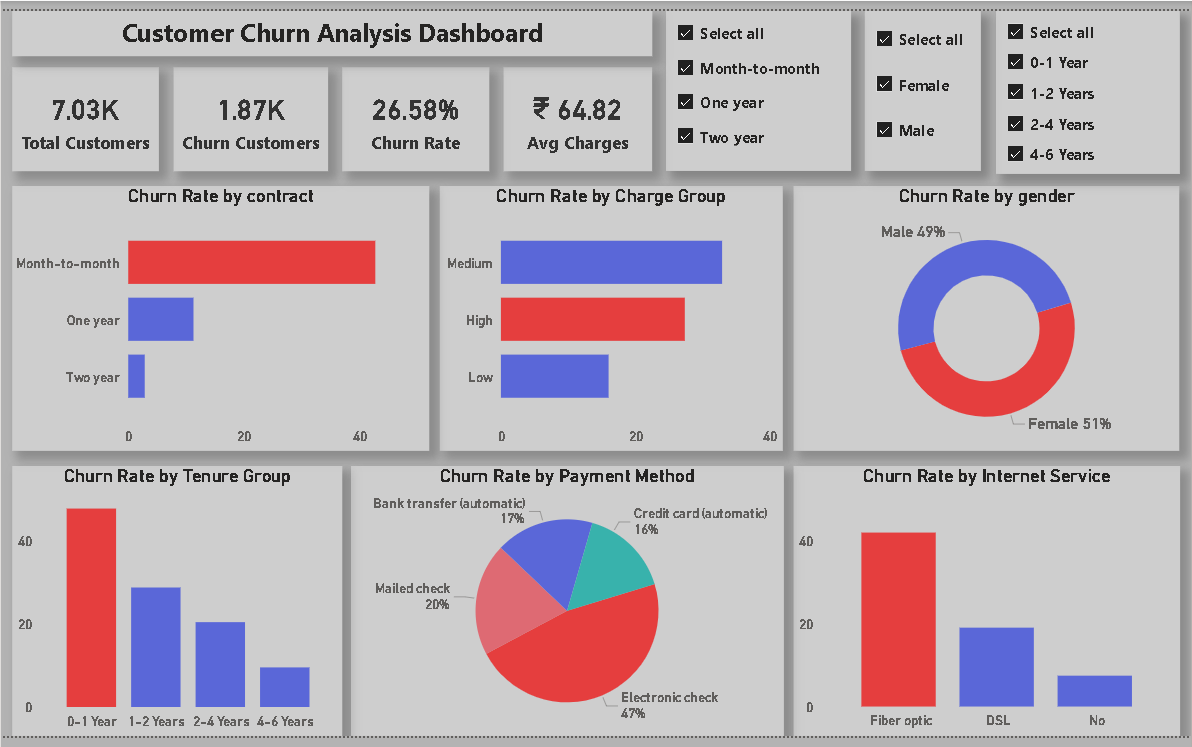

The dashboard page shown, as its layout file describes it:
{"tool":"powerbi","page":{"name":"Page 1","canvas":[1280,780],"ordinal":0},"visuals":[{"type":"card","fields":{"Values":["churn.total_customers"]},"box":[12.1,60.5,157.3,111.6],"z":0},{"type":"card","fields":{"Values":["churn.churn_customers"]},"box":[185.6,60.5,166.8,111.6],"z":1000},{"type":"card","fields":{"Values":["churn.Churn_Rate"]},"box":[367.1,60.5,158.7,111.6],"z":2000},{"type":"card","fields":{"Values":["churn.Avg Charges"]},"box":[540.6,60.5,160,111.6],"z":3000},{"type":"barChart","title":"Churn Rate by contract","fields":{"Category":["churn.contract"],"Y":["churn.Churn %"]},"box":[12.1,188.3,449.2,285.1],"z":4000},{"type":"columnChart","title":"Churn Rate by Tenure Group","fields":{"Category":["churn.tenure_group"],"Y":["churn.Churn %"]},"box":[12.1,489.5,355,290.5],"z":5000},{"type":"barChart","title":"Churn Rate by Charge Group","fields":{"Y":["churn.Churn %"],"Category":["churn.charge_group"]},"box":[472,188.3,368.5,285.1],"z":6000},{"type":"pieChart","title":"Churn Rate by Payment Method","fields":{"Category":["churn.payment_method"],"Y":["churn.Churn %"]},"box":[376.6,489.5,465.3,290.5],"z":7000},{"type":"donutChart","title":"Churn Rate by gender","fields":{"Category":["churn.gender"],"Y":["churn.Churn %"]},"box":[852.6,188.3,415.6,285.1],"z":8000},{"type":"textbox","box":[12.1,0,688.6,48.4],"z":9000},{"type":"columnChart","title":"Churn Rate by Internet Service","fields":{"Category":["churn.internet_service"],"Y":["churn.Churn %"]},"box":[853,490,416,290],"z":10000},{"type":"slicer","fields":{"Values":["churn.contract"]},"box":[715.4,0,199,172.1],"z":11000},{"type":"slicer","fields":{"Values":["churn.gender"]},"box":[929.3,0,125.1,172.1],"z":11001},{"type":"slicer","fields":{"Values":["churn.tenure_group"]},"box":[1070.5,0,197.7,174.8],"z":11002}]}

Visuals, with their boxes in screenshot pixels (x1, y1, x2, y2), scaled from the page's 1280x780 canvas onto the 1192x747 screenshot:
card - churn.total_customers: [11,58,158,165]
card - churn.churn_customers: [173,58,328,165]
card - churn.Churn_Rate: [342,58,490,165]
card - churn.Avg Charges: [503,58,652,165]
"Churn Rate by contract" barChart: [11,180,430,453]
"Churn Rate by Tenure Group" columnChart: [11,469,342,746]
"Churn Rate by Charge Group" barChart: [440,180,783,453]
"Churn Rate by Payment Method" pieChart: [351,469,784,746]
"Churn Rate by gender" donutChart: [794,180,1181,453]
textbox: [11,0,653,46]
"Churn Rate by Internet Service" columnChart: [794,469,1182,746]
slicer - churn.contract: [666,0,852,165]
slicer - churn.gender: [865,0,982,165]
slicer - churn.tenure_group: [997,0,1181,167]
